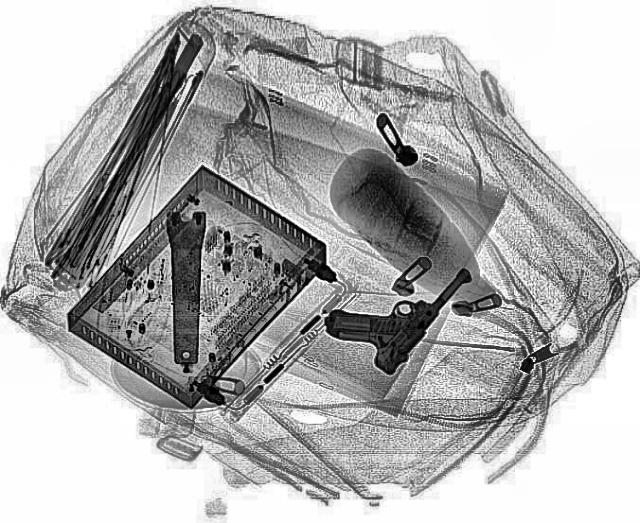Gun: (308, 234, 474, 376)
